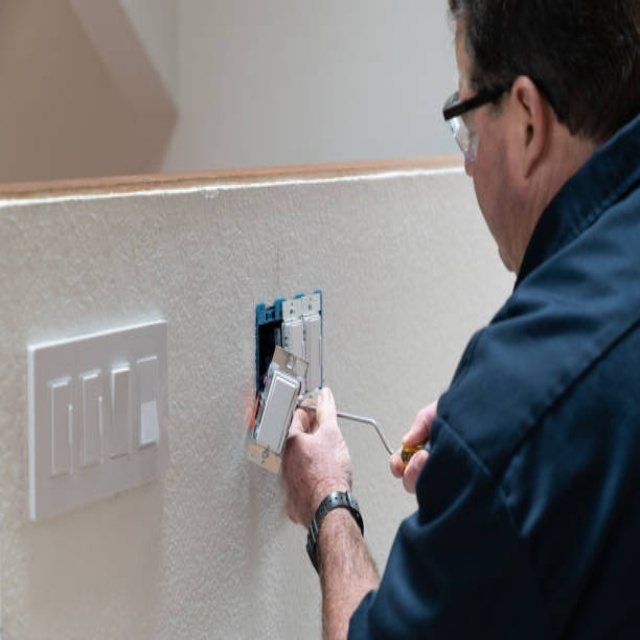Gafas: (441, 77, 564, 160)
Sin_guantes: (277, 385, 355, 532), (395, 400, 439, 493)
